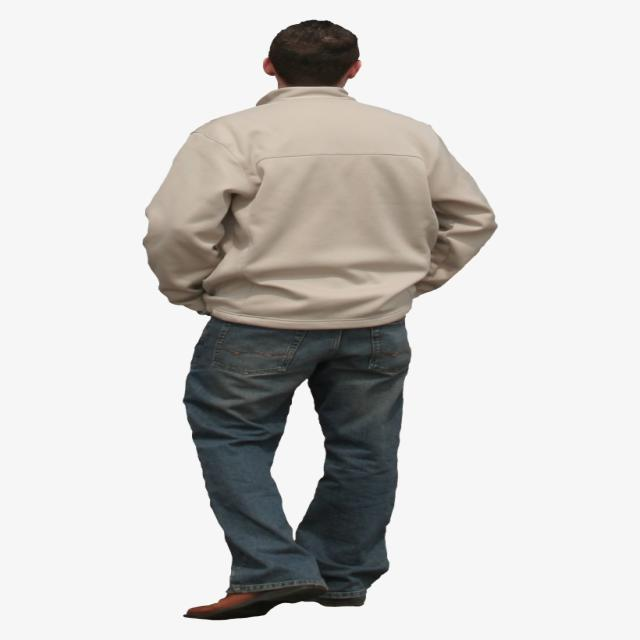adult: (142, 14, 503, 622)
